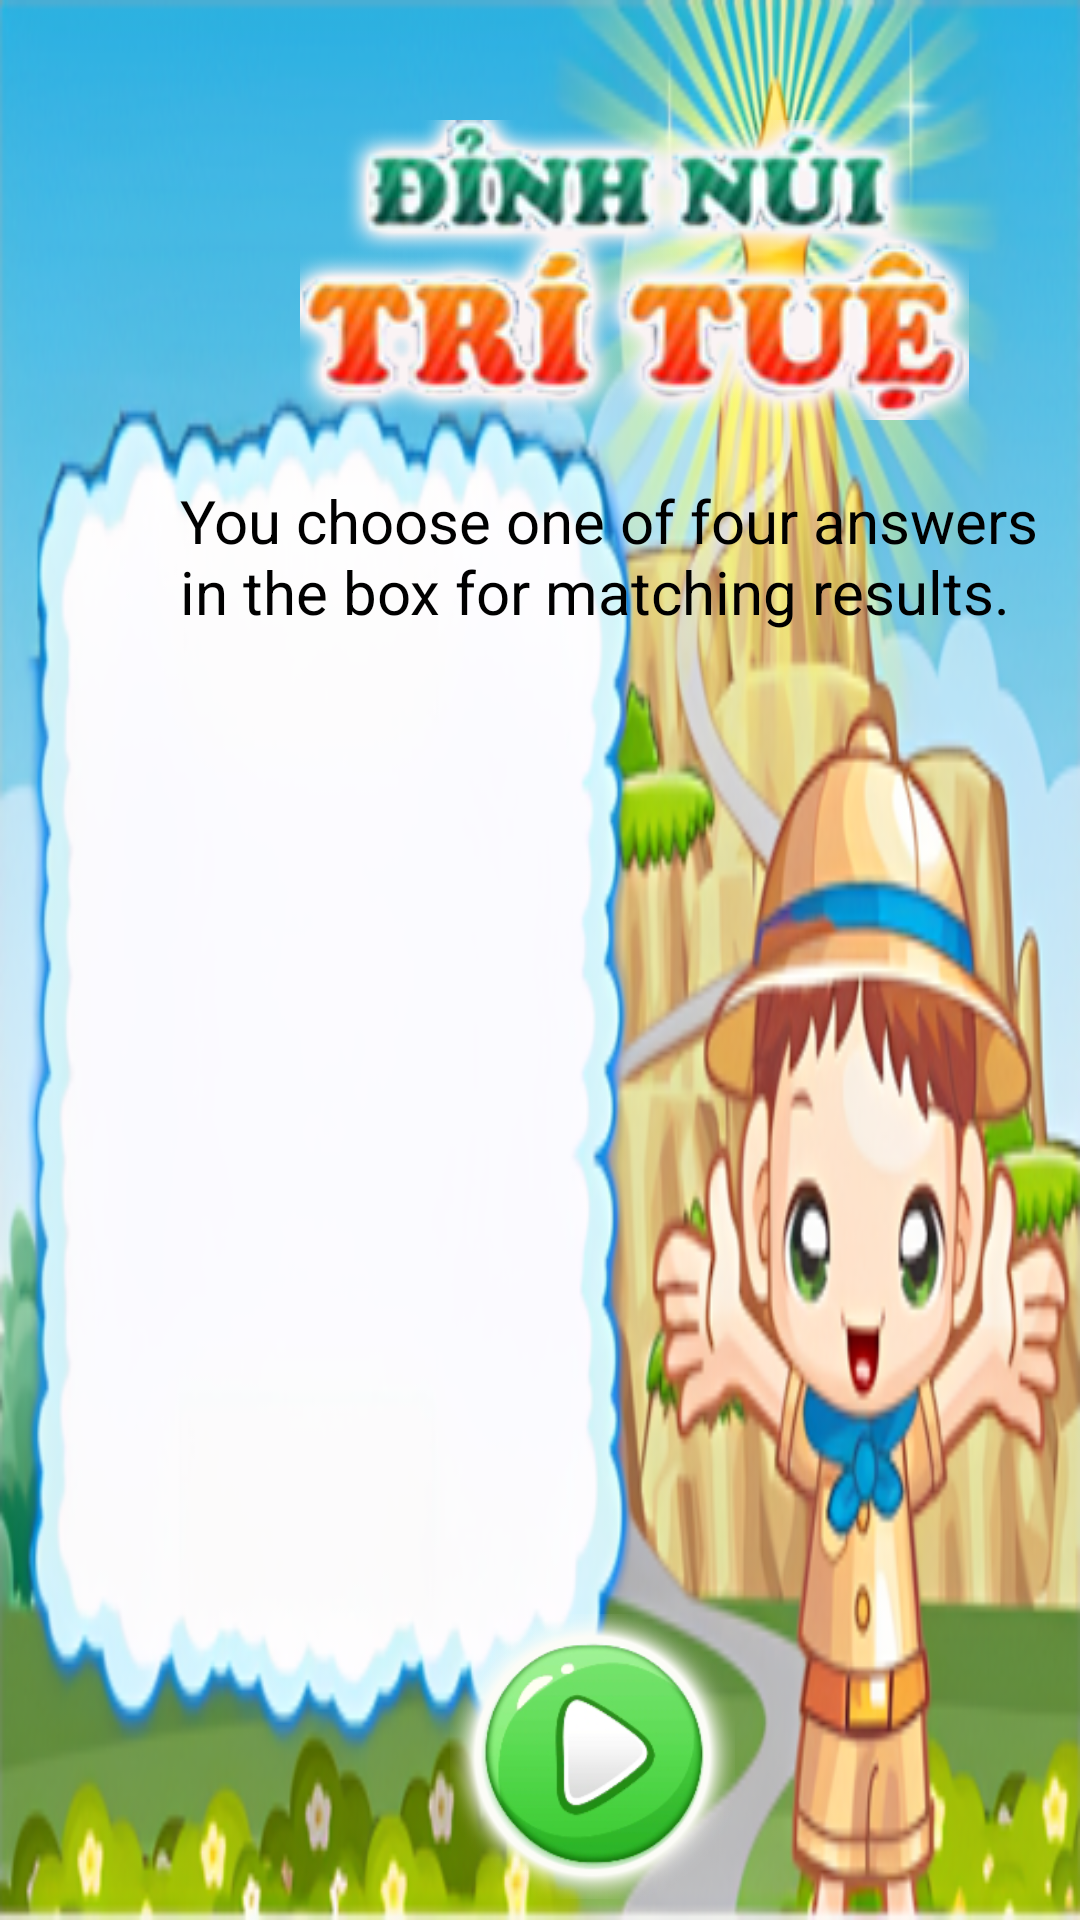

Screen size 1080 × 1920. Icon name, then its center in pixels as (x=x, y=y):
play: (x=592, y=1756)
